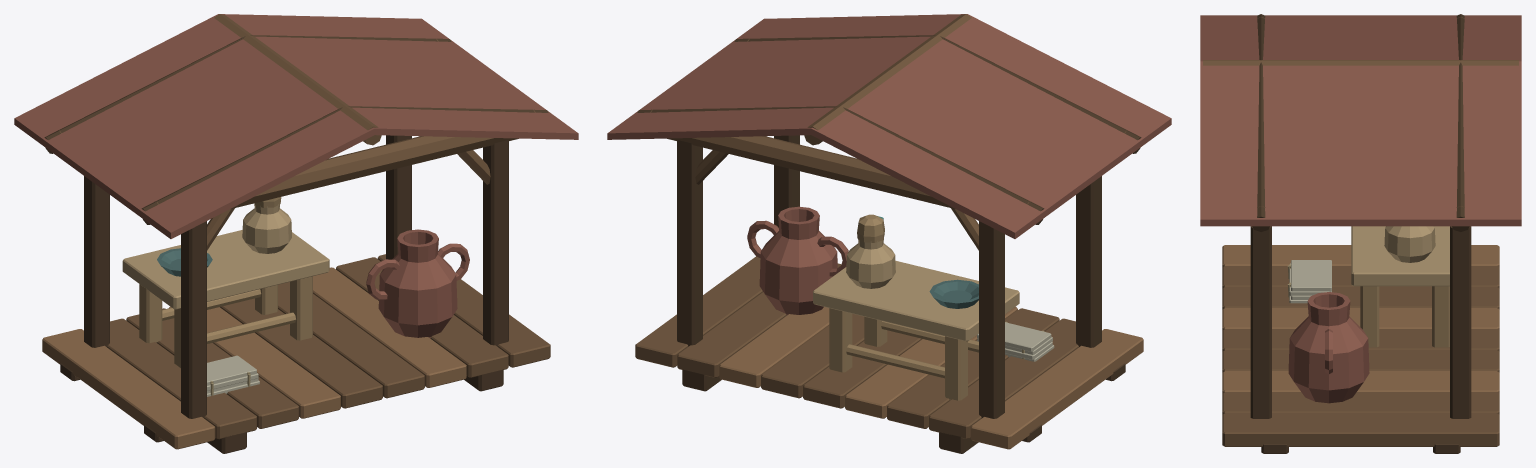
File: offering-awning.glb
The picture shows the model from 3 angles, left to right: view 1: azimuth 30°, elevation 25°; view 2: azimuth 150°, elevation 25°; view 3: azimuth 270°, elevation 25°; orthographic projection. The views are drawn at different scales.
Parts seen in each view (by area): view 1: offering-awning__body; view 2: offering-awning__body; view 3: offering-awning__body.
Boxes of the visible parts, bbox=[...] form: offering-awning__body: bbox=[14, 14, 578, 453]; offering-awning__body: bbox=[607, 14, 1171, 453]; offering-awning__body: bbox=[1200, 14, 1521, 453].
Bounding box in the file's own units: 2.27 × 1.6 × 1.51.
